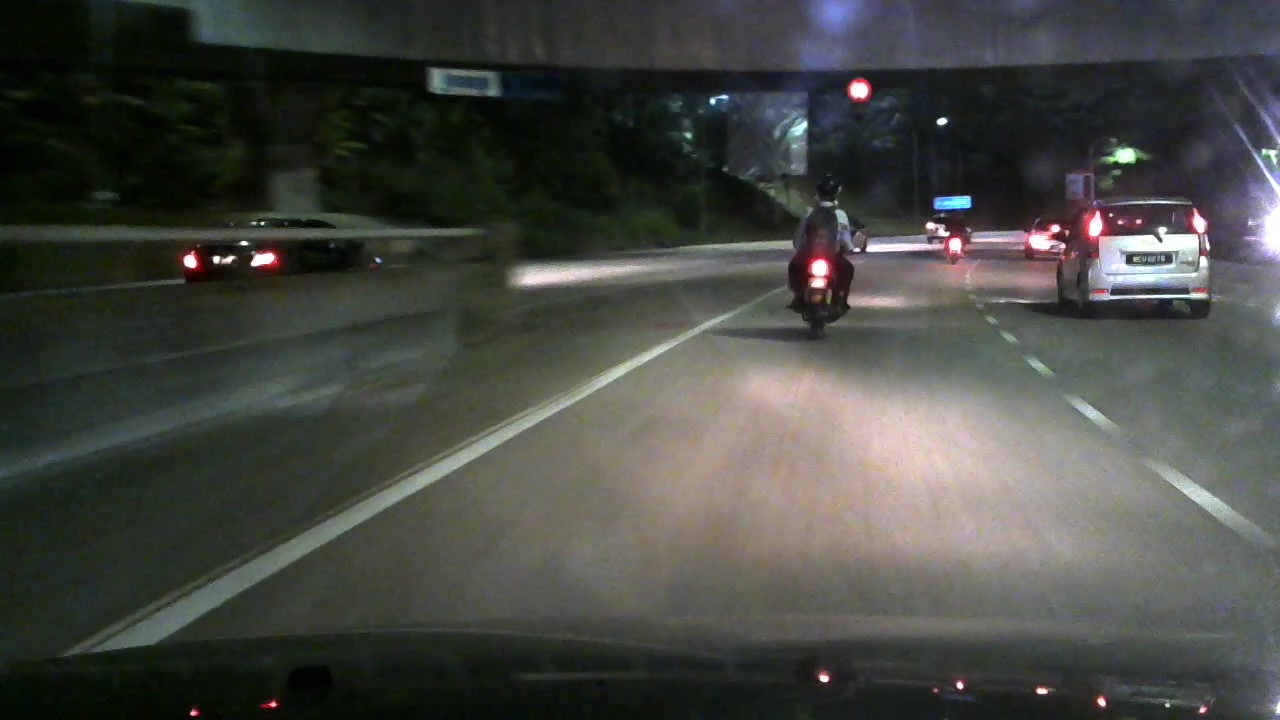Car: (1050, 187, 1247, 331), (152, 188, 388, 276), (1012, 211, 1071, 263), (918, 209, 970, 240)
